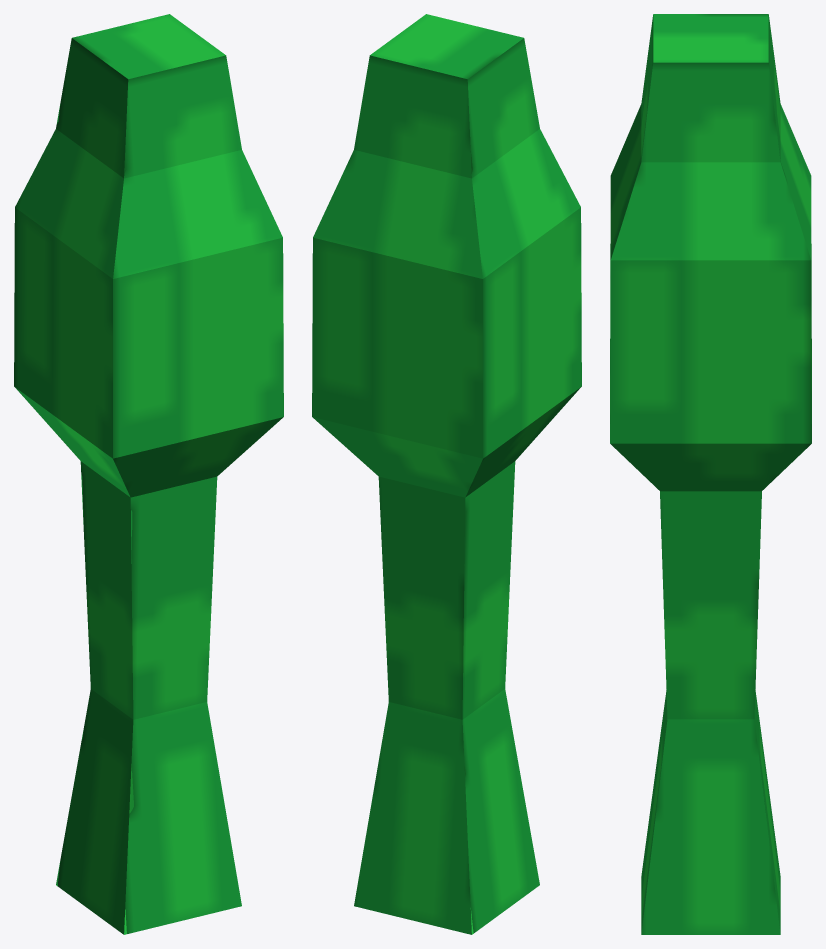
Rendered from Rocket.fbx.
The picture shows the model from 3 angles, left to right: view 1: azimuth 30°, elevation 25°; view 2: azimuth 150°, elevation 25°; view 3: azimuth 270°, elevation 25°; orthographic projection. The views are drawn at different scales.
Parts seen in each view (by area): view 1: cube; view 2: cube; view 3: cube.
Part boxes in pixels (<box>): cube: <box>14,14,283,934</box>; cube: <box>312,14,581,934</box>; cube: <box>610,14,811,934</box>.
Size of the model in its own units: 72.5 by 344 by 72.5.
1 material, 1 textured.
